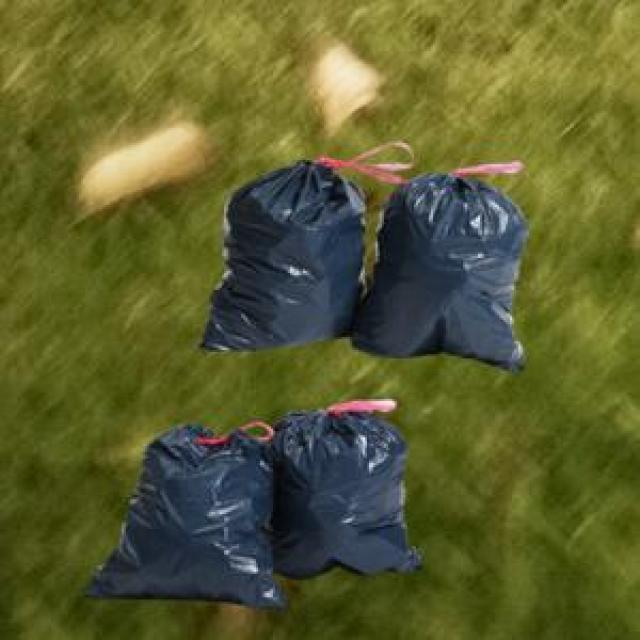Vinyl: (89, 401, 420, 609), (206, 161, 528, 369)
